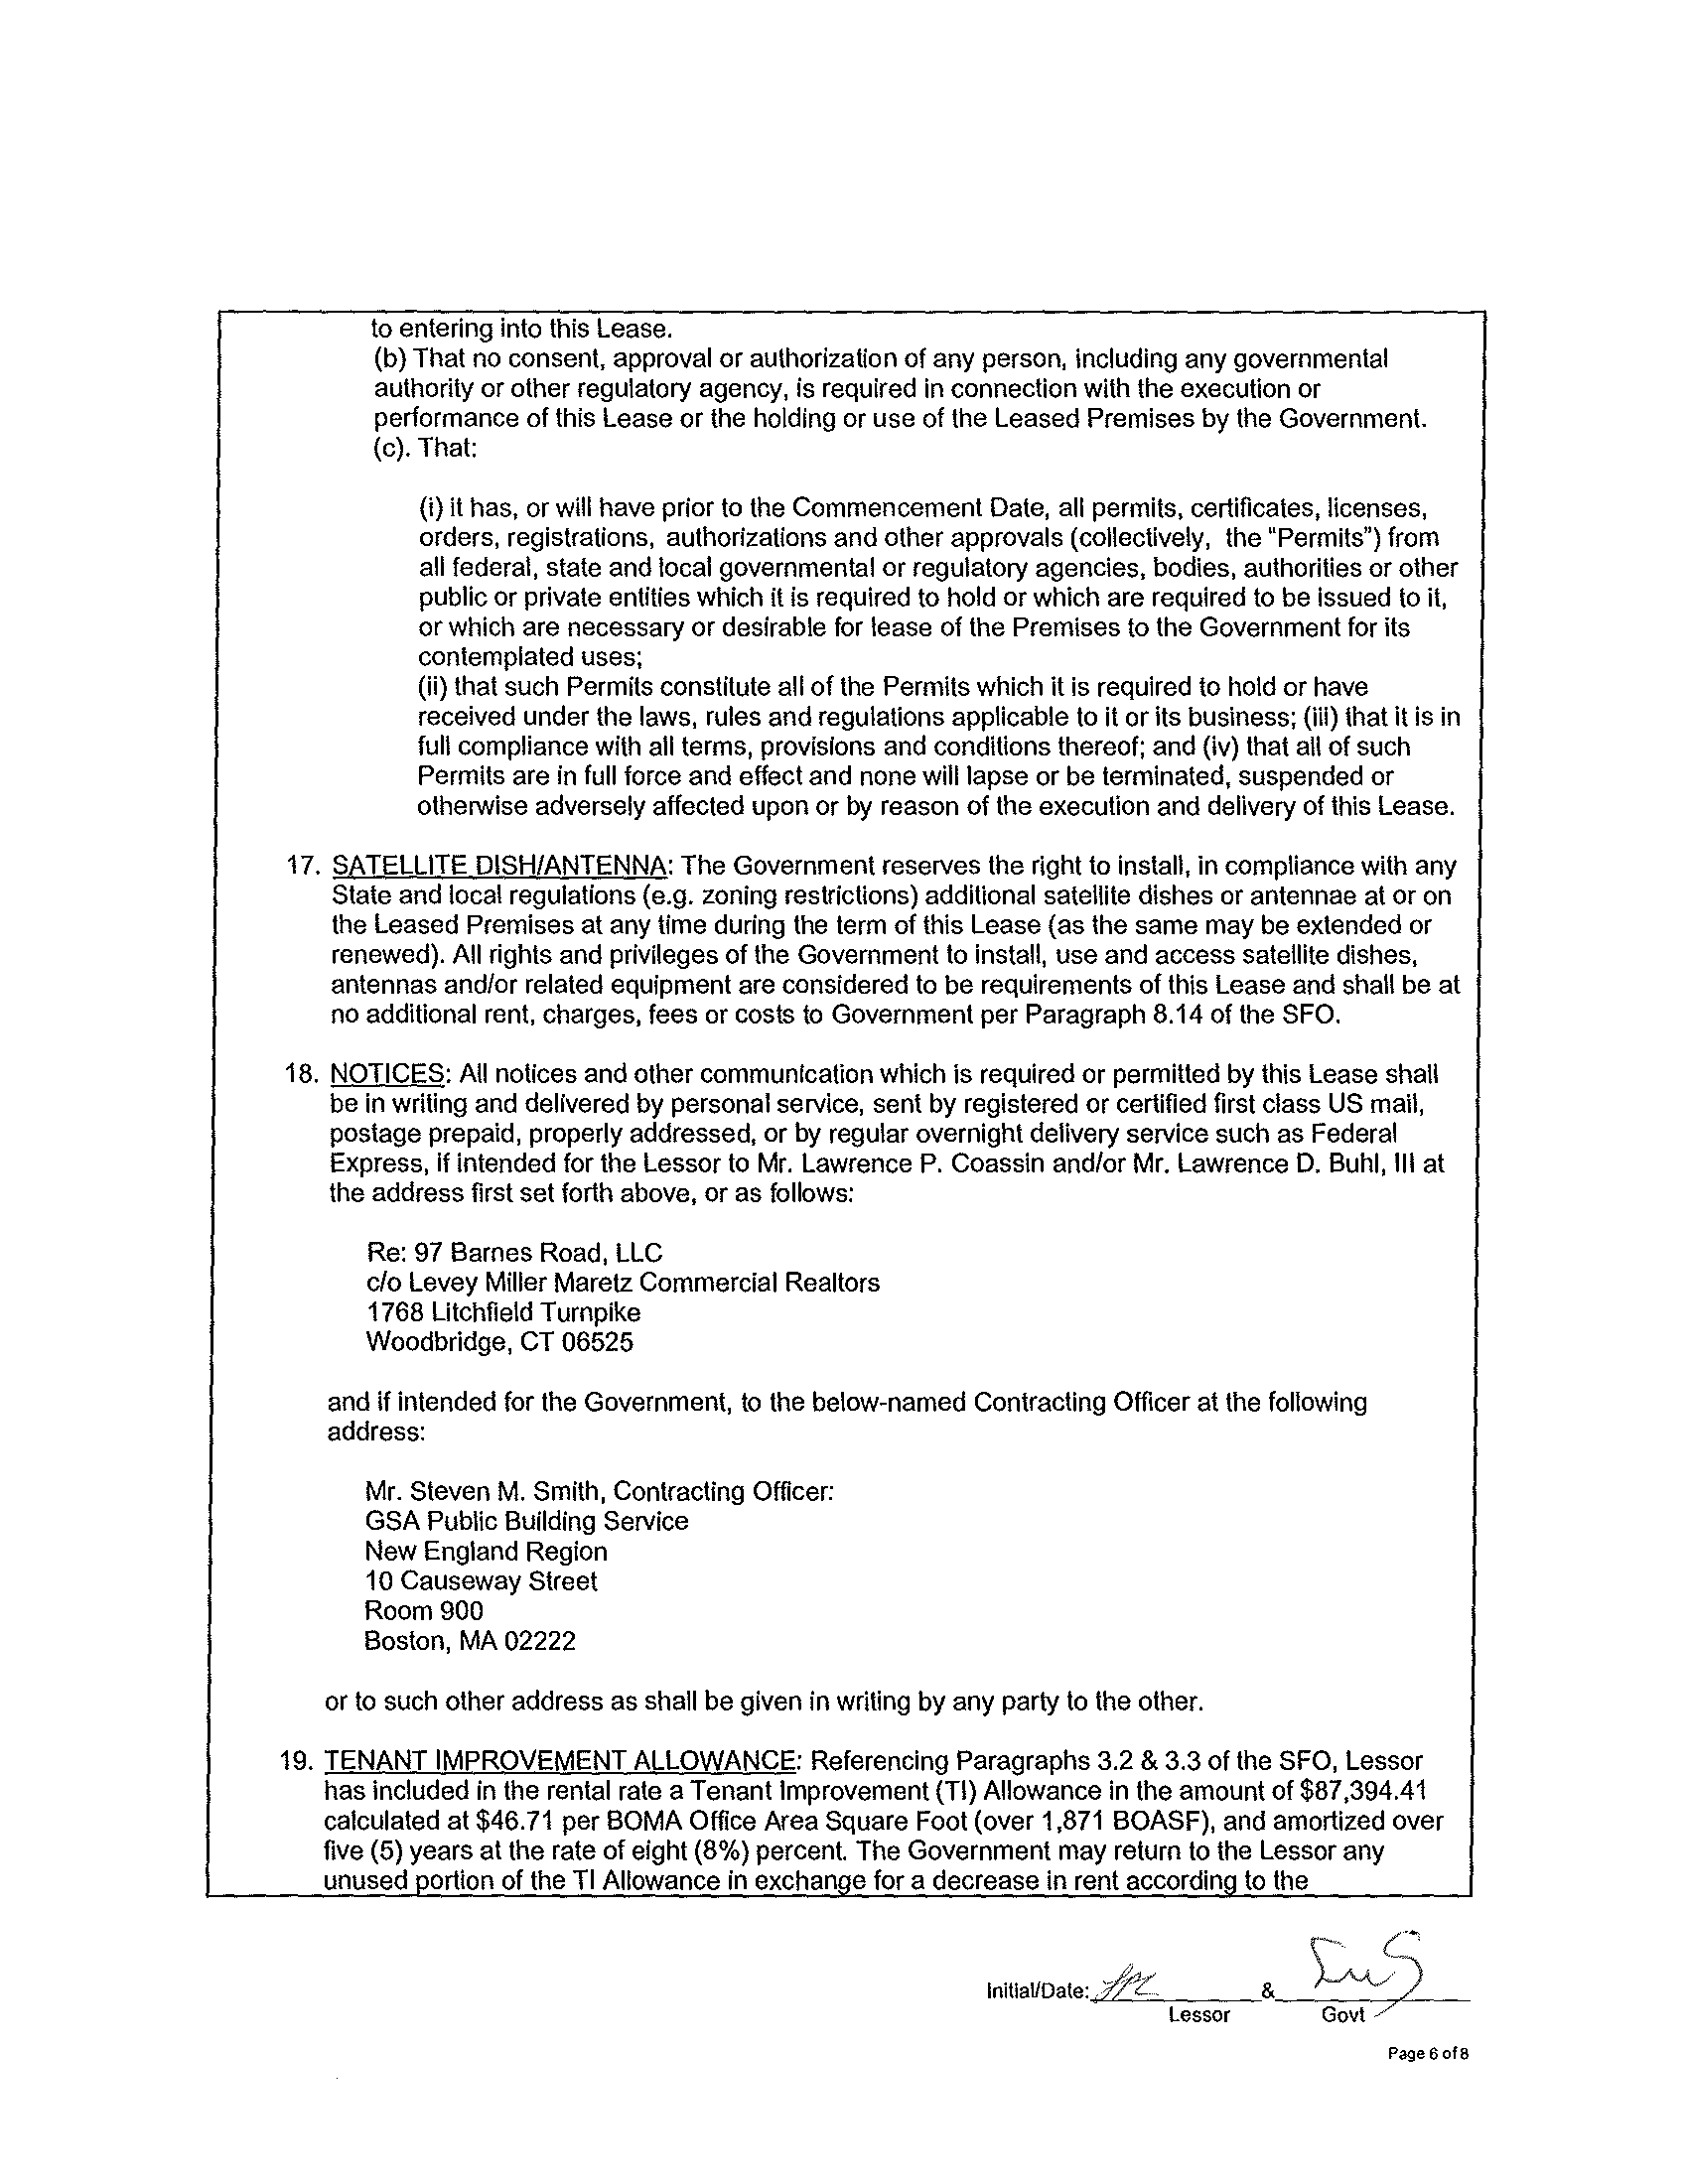handwritten: (1282, 1916, 1470, 2000), (1101, 1925, 1188, 2000)
